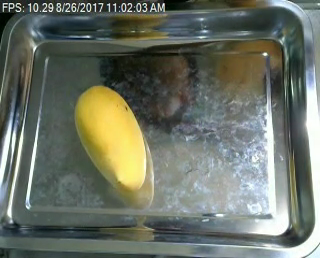Mango: (67, 81, 158, 197)
